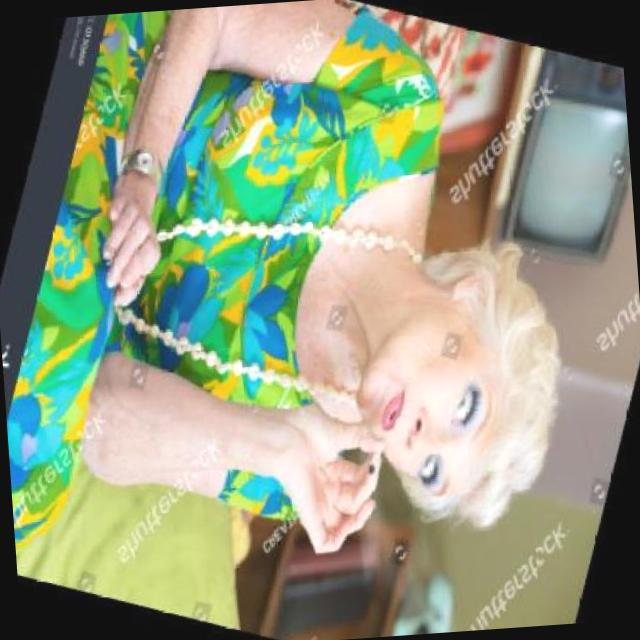smoke: (268, 406, 390, 558)
